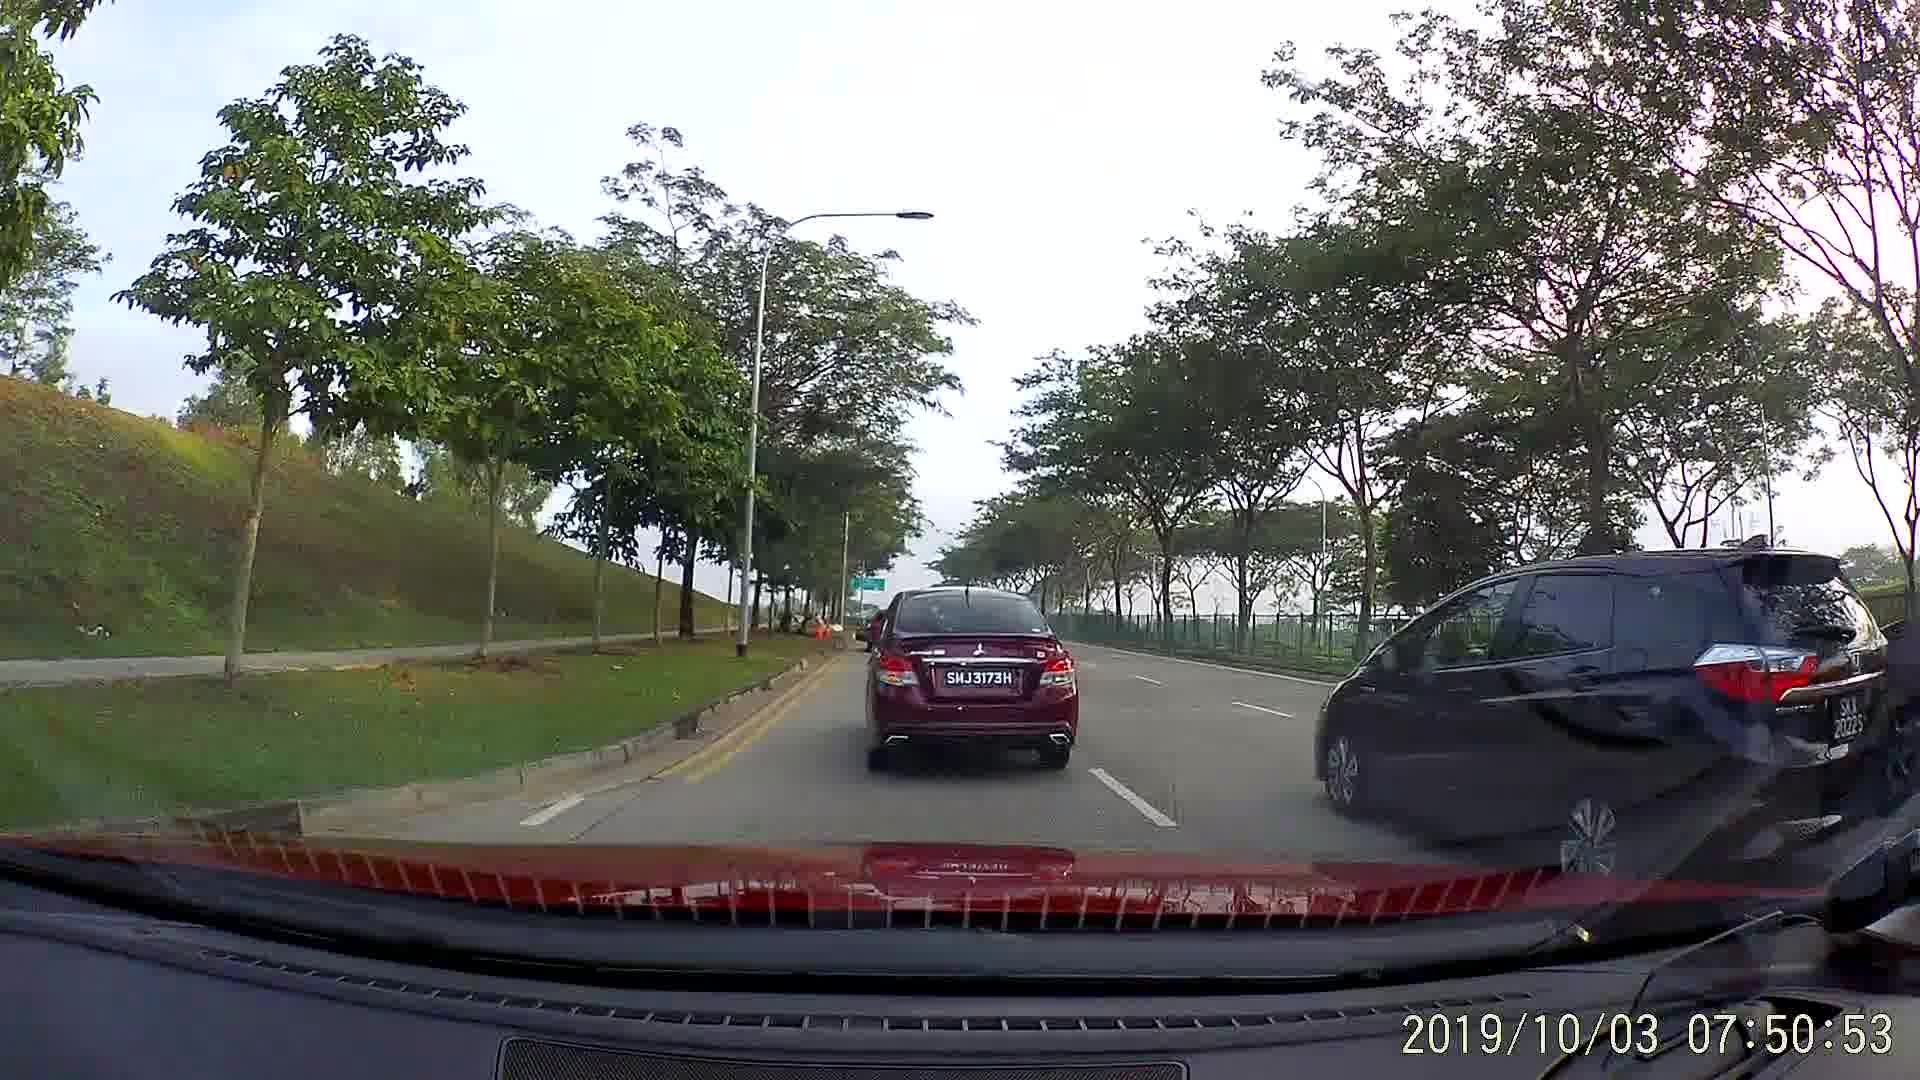car: (1311, 549, 1900, 884), (851, 587, 1077, 769)
